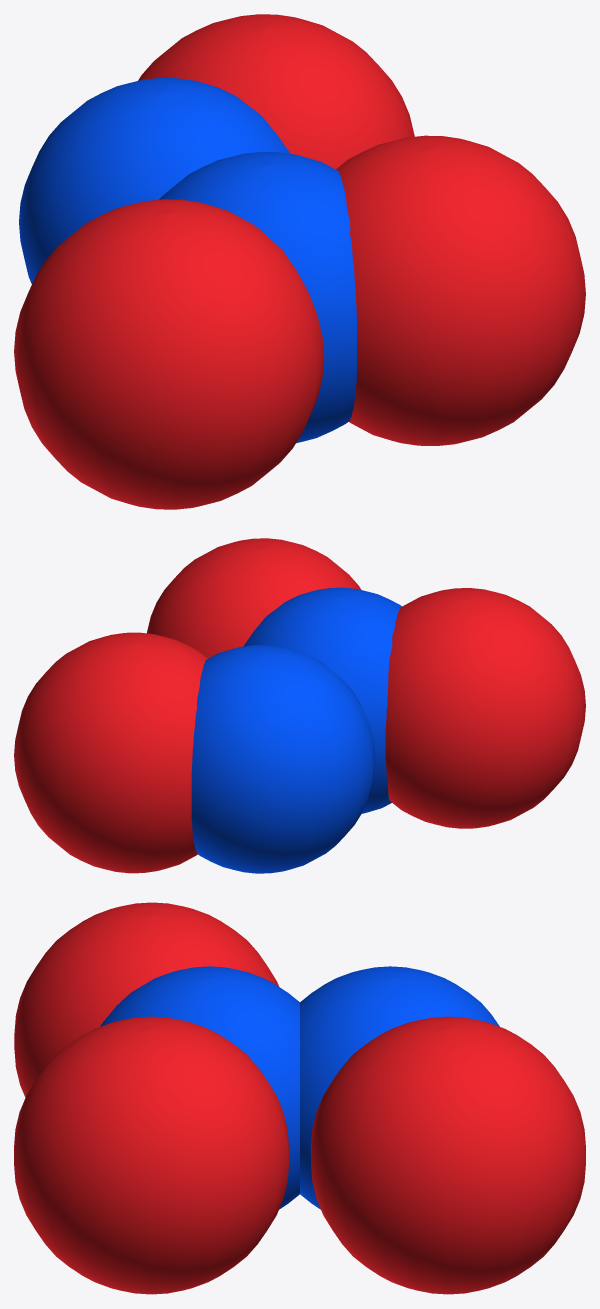
3 renders of one model, top to bottom at view 1: azimuth 30°, elevation 25°; view 2: azimuth 150°, elevation 25°; view 3: azimuth 270°, elevation 25°, orthographic. The views are drawn at different scales.
Parts seen in each view (by area): view 1: Сферы_Node (×5); view 2: Сферы_Node (×5); view 3: Сферы_Node (×5).
Part boxes in pixels (<box>): Сферы_Node (×5): <box>14,14,585,509</box>; Сферы_Node (×5): <box>14,538,585,873</box>; Сферы_Node (×5): <box>14,902,585,1294</box>.
Size of the model in its own units: 3.12 by 1.58 by 3.25.
2 materials, 2 textured.
